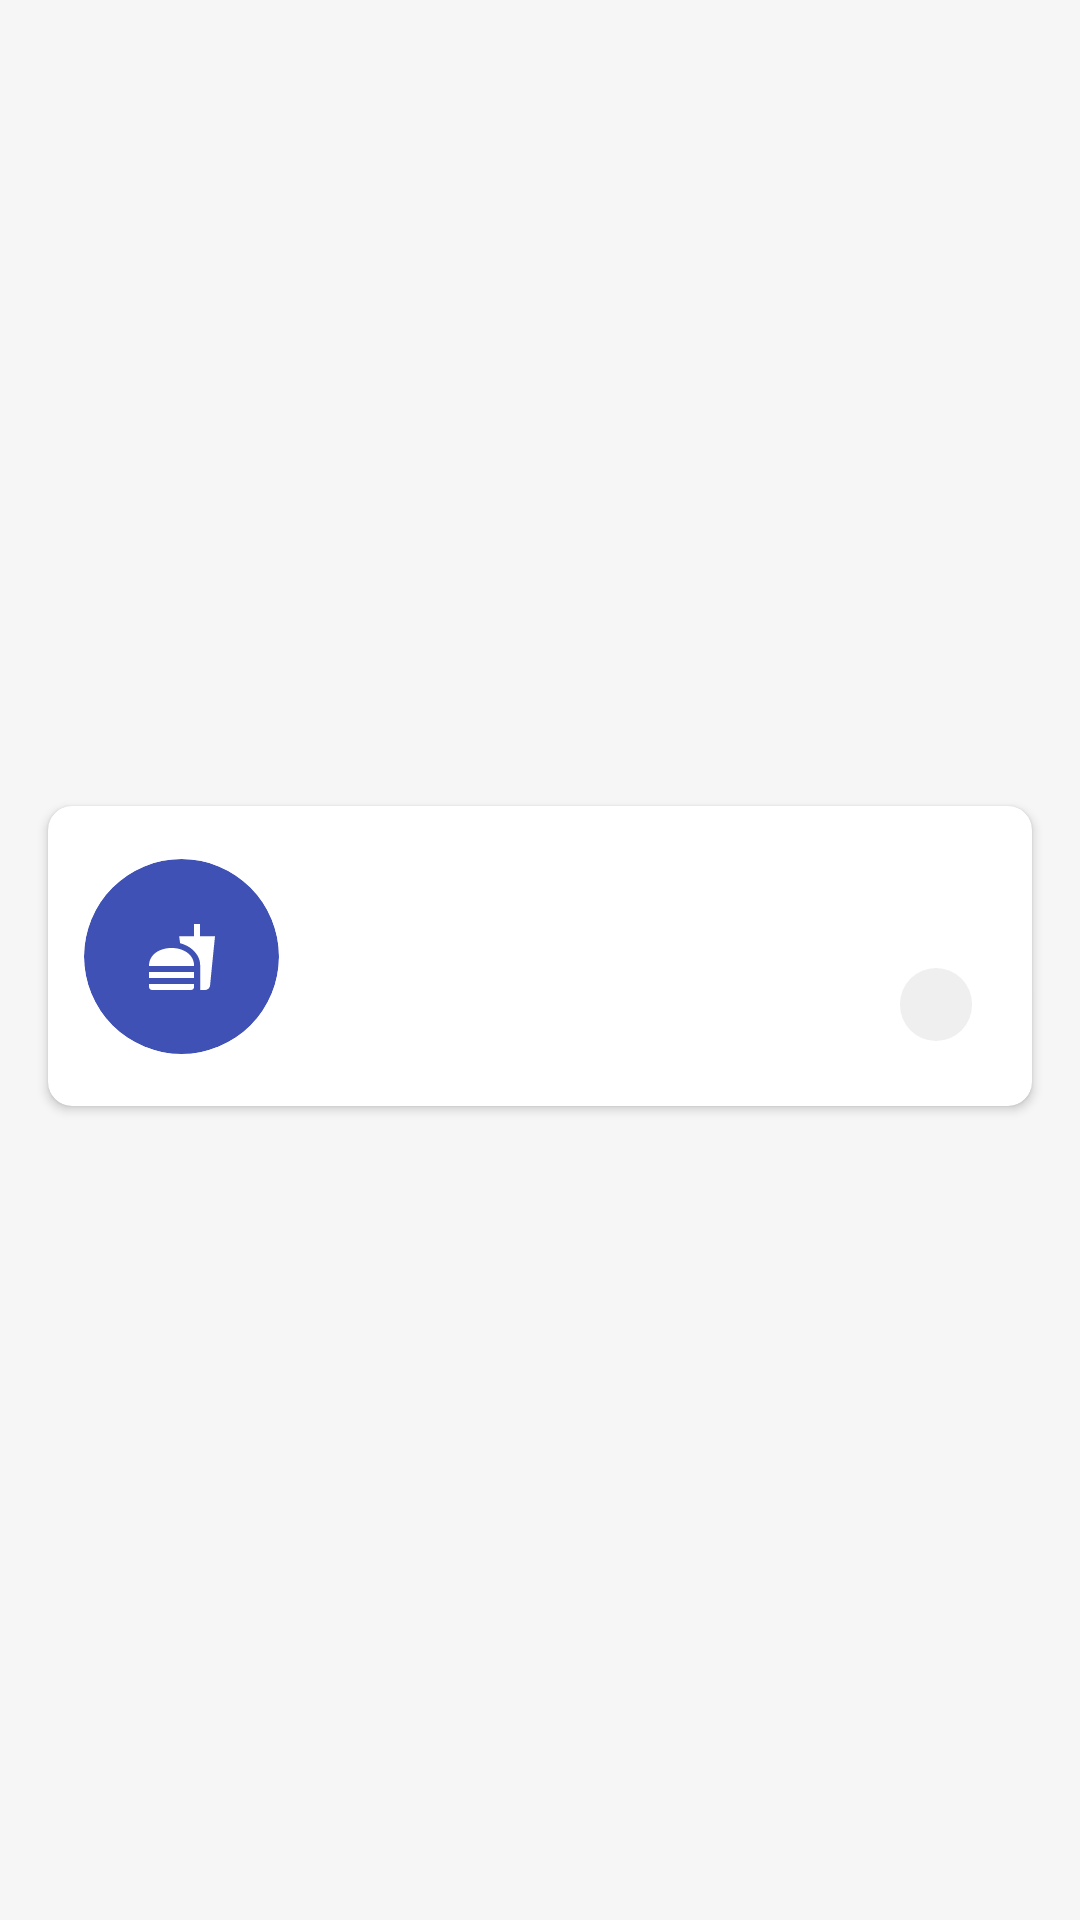

Icons on this 1080 x 1920 Android screen, each with the point to tap as point (x, y):
fastfood: point (182, 957)
